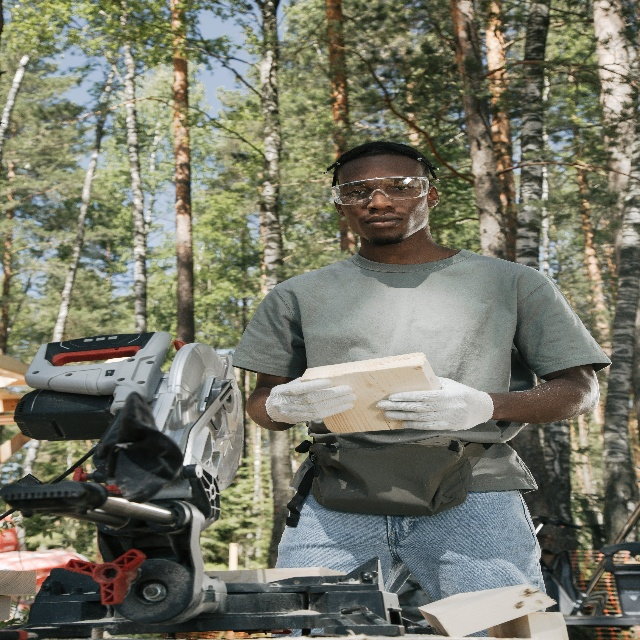Gafas: (331, 176, 431, 206)
Guantes: (374, 374, 495, 432), (265, 372, 356, 429)
